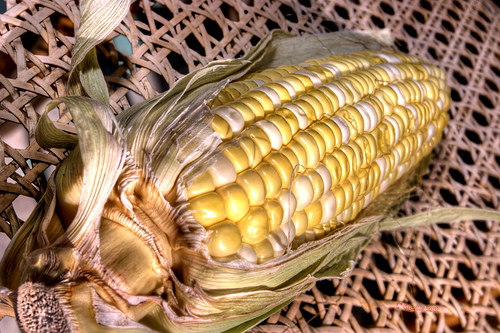corn: (14, 50, 451, 332)
